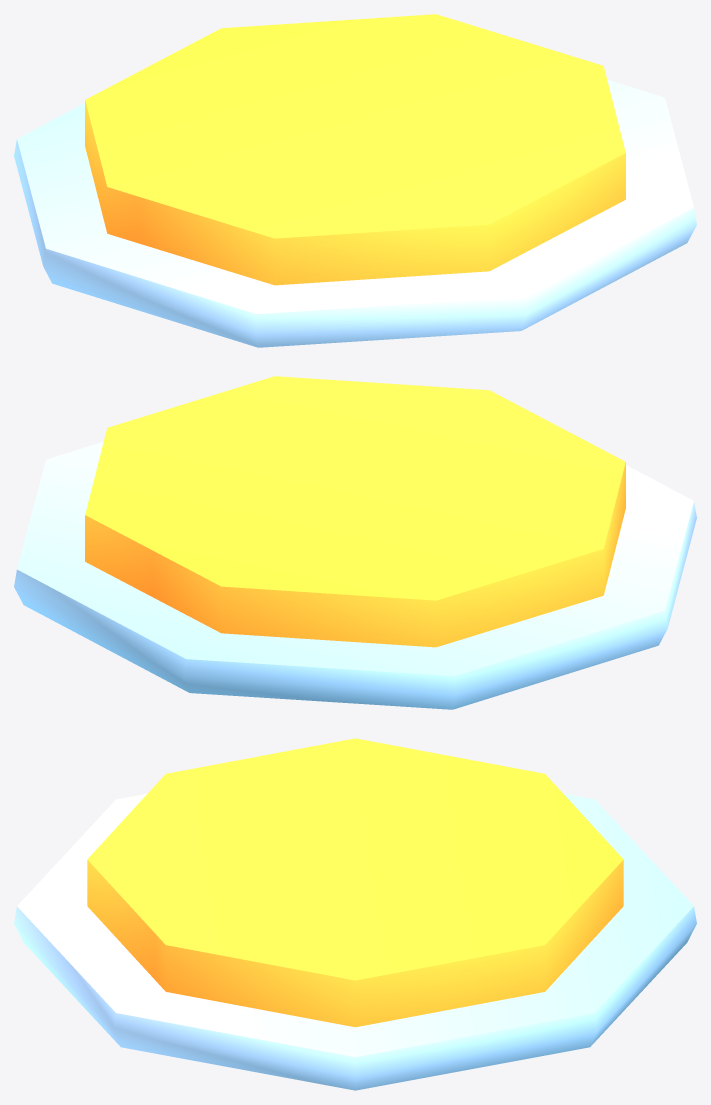
Rendered from gold_and_steel_guard_040.glb.
The picture shows the model from 3 angles, top to bottom: view 1: azimuth 30°, elevation 25°; view 2: azimuth 150°, elevation 25°; view 3: azimuth 270°, elevation 25°; orthographic projection.
Visible parts, largest first — view 1: gold_and_steel_guard_040; view 2: gold_and_steel_guard_040; view 3: gold_and_steel_guard_040.
Part boxes in pixels (bbox=[...]): gold_and_steel_guard_040: bbox=[14, 14, 696, 347]; gold_and_steel_guard_040: bbox=[14, 376, 696, 709]; gold_and_steel_guard_040: bbox=[14, 738, 696, 1090].
Size of the model in its own units: 5.19 by 0.6605 by 4.92.
Materials: 1 (1 with a texture image).
